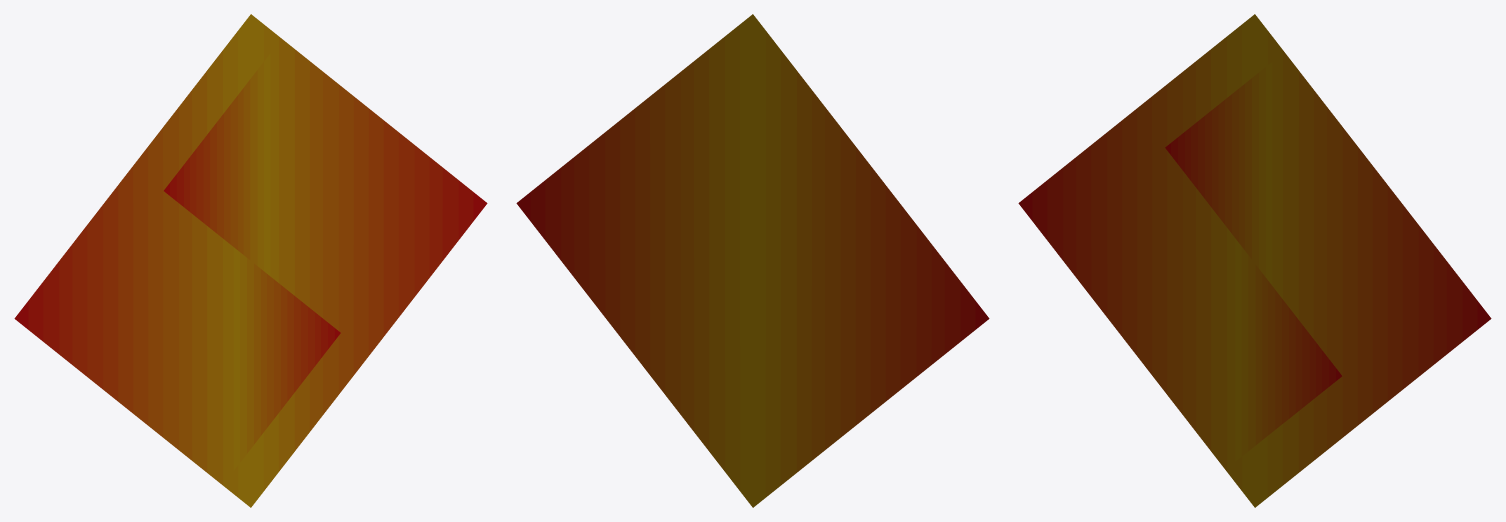
The picture shows the model from 3 angles, left to right: view 1: azimuth 30°, elevation 25°; view 2: azimuth 150°, elevation 25°; view 3: azimuth 330°, elevation 25°; orthographic projection.
Visible parts, largest first — view 1: DrawCall_1, DrawCall_2, DrawCall_3; view 2: DrawCall_1; view 3: DrawCall_1, DrawCall_3, DrawCall_2.
Boxes of the visible parts, x1,y1,x2,y2 form: DrawCall_1: (14,14,487,507); DrawCall_2: (233,247,340,470); DrawCall_3: (164,53,270,276); DrawCall_1: (516,14,989,507); DrawCall_1: (1018,14,1491,507); DrawCall_3: (1165,62,1272,285); DrawCall_2: (1235,238,1341,461).
Size of the model in its own units: 8.02 by 8 by 0.0374.
1 material, 1 textured.
